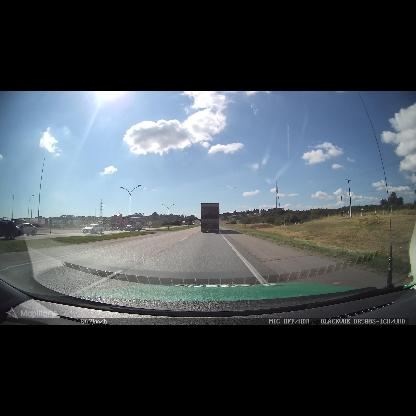R-5a: (147, 220, 152, 226)
